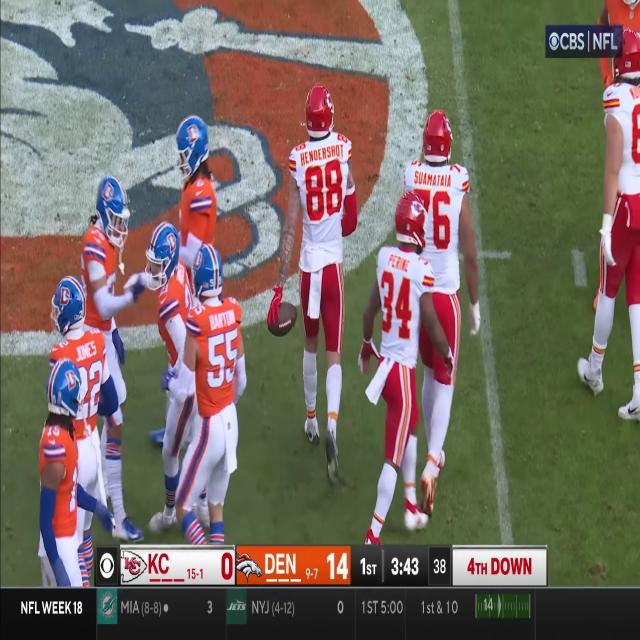Player: (283, 87, 353, 487), (416, 99, 483, 515), (361, 193, 438, 547), (590, 30, 640, 429), (181, 241, 244, 554), (144, 219, 195, 530), (36, 357, 94, 592), (81, 172, 147, 345), (61, 280, 100, 524), (176, 113, 221, 258)
